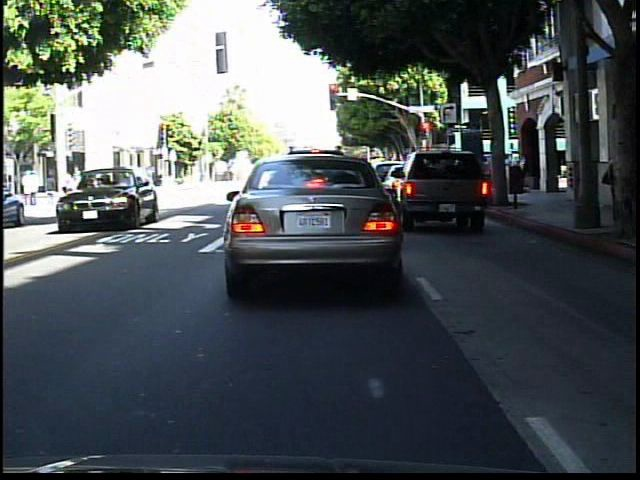person: (590, 141, 612, 217), (618, 141, 639, 219), (71, 162, 88, 197), (47, 168, 61, 206), (70, 173, 71, 198)
